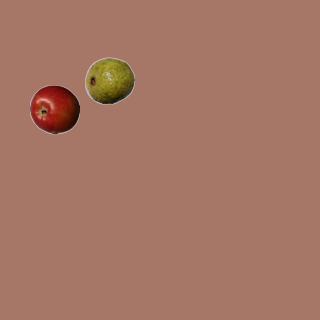Apple Braeburn: (29, 84, 79, 134)
Guava: (84, 55, 134, 105)
